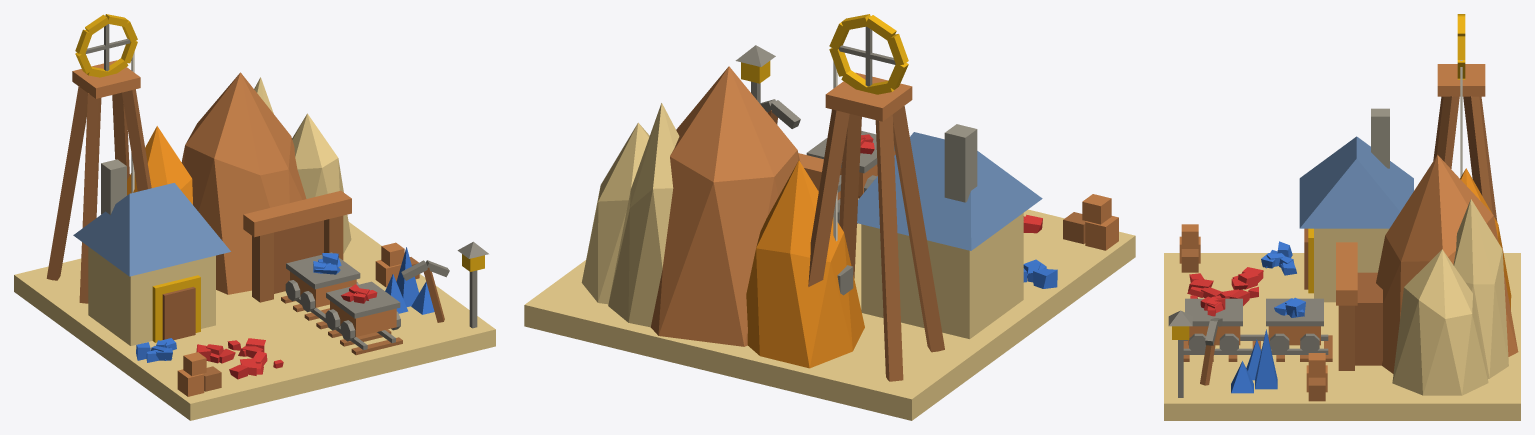
The model's file is mine_t3_v2.glb.
3 renders of one model, left to right at view 1: azimuth 30°, elevation 25°; view 2: azimuth 150°, elevation 25°; view 3: azimuth 270°, elevation 25°, orthographic. The views are drawn at different scales.
Parts seen in each view (by area): view 1: mine_t3_v2; view 2: mine_t3_v2; view 3: mine_t3_v2.
Boxes of the visible parts, bbox=[...] form: mine_t3_v2: bbox=[14, 14, 495, 420]; mine_t3_v2: bbox=[524, 14, 1135, 420]; mine_t3_v2: bbox=[1164, 14, 1520, 420].
Size of the model in its own units: 0.75 by 0.6624 by 0.75.
Materials: 1 (1 with a texture image).
